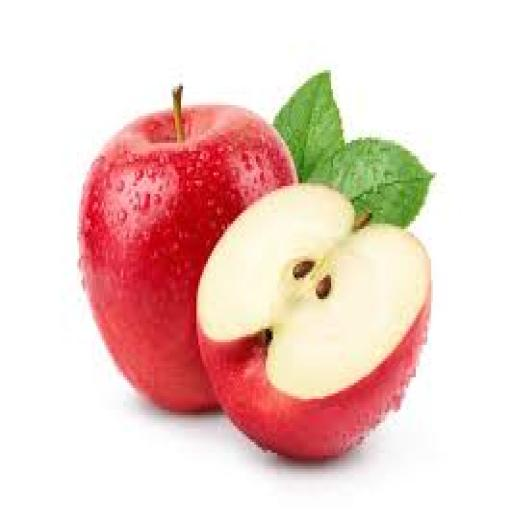Apple: (79, 98, 296, 409), (199, 186, 429, 458)
